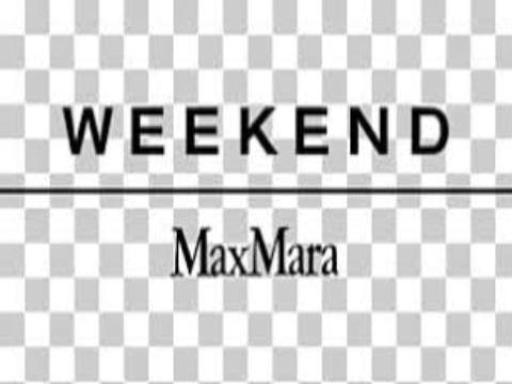MAX-MARA: (169, 222, 340, 279)
